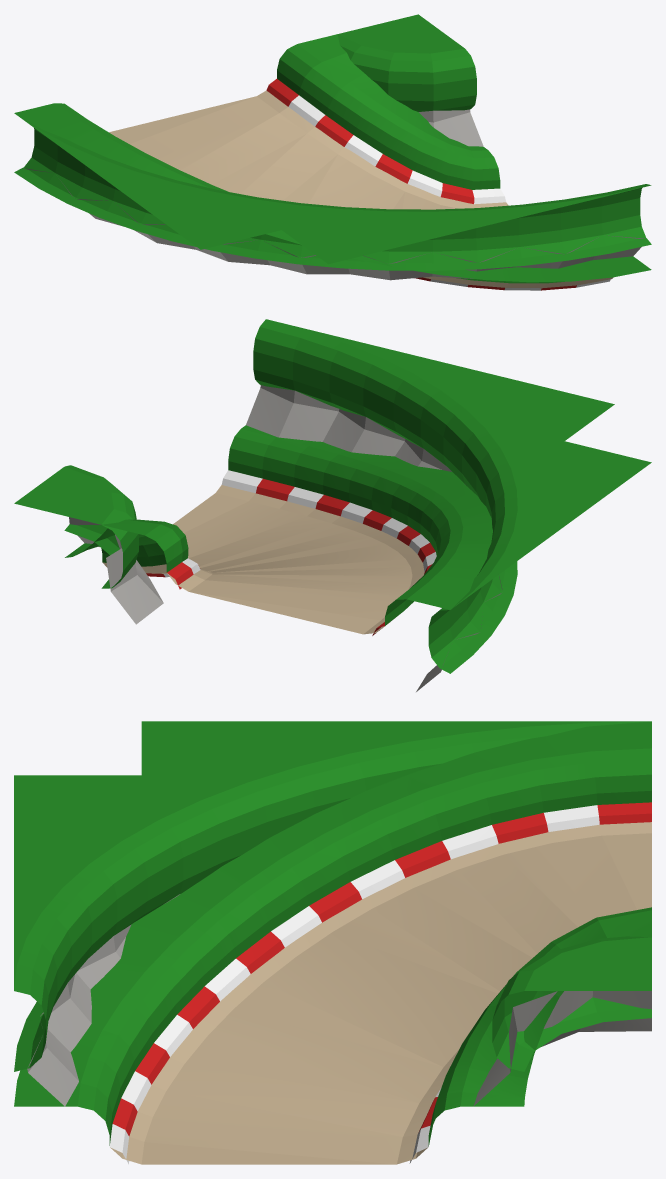
Rendered from Track_Cliff_Curve_Striped_Double_5x5.obj.
3 renders of one model, top to bottom at view 1: azimuth 30°, elevation 25°; view 2: azimuth 150°, elevation 25°; view 3: azimuth 270°, elevation 25°, orthographic. The views are drawn at different scales.
Parts seen in each view (by area): view 1: Grass, Dirt, Rock, Raceline_Color_1, Raceline_Color_2; view 2: Grass, Dirt, Rock, Raceline_Color_1, Raceline_Color_2; view 3: Grass, Dirt, Rock, Raceline_Color_2, Raceline_Color_1.
Part boxes in pixels (x1,y1,x2,y2): Grass: (14, 14, 651, 283); Dirt: (109, 90, 613, 288); Rock: (23, 109, 644, 280); Raceline_Color_1: (288, 95, 610, 290); Raceline_Color_2: (266, 79, 576, 290); Grass: (14, 319, 651, 673); Dirt: (102, 485, 424, 634); Rock: (69, 385, 502, 691); Raceline_Color_1: (163, 470, 436, 577); Raceline_Color_2: (146, 478, 435, 635); Grass: (14, 721, 651, 1146); Dirt: (110, 822, 651, 1164); Rock: (27, 894, 651, 1106); Raceline_Color_2: (112, 802, 651, 1136); Raceline_Color_1: (109, 805, 599, 1164).
Bounding box in the file's own units: 5 × 1.5 × 5.
